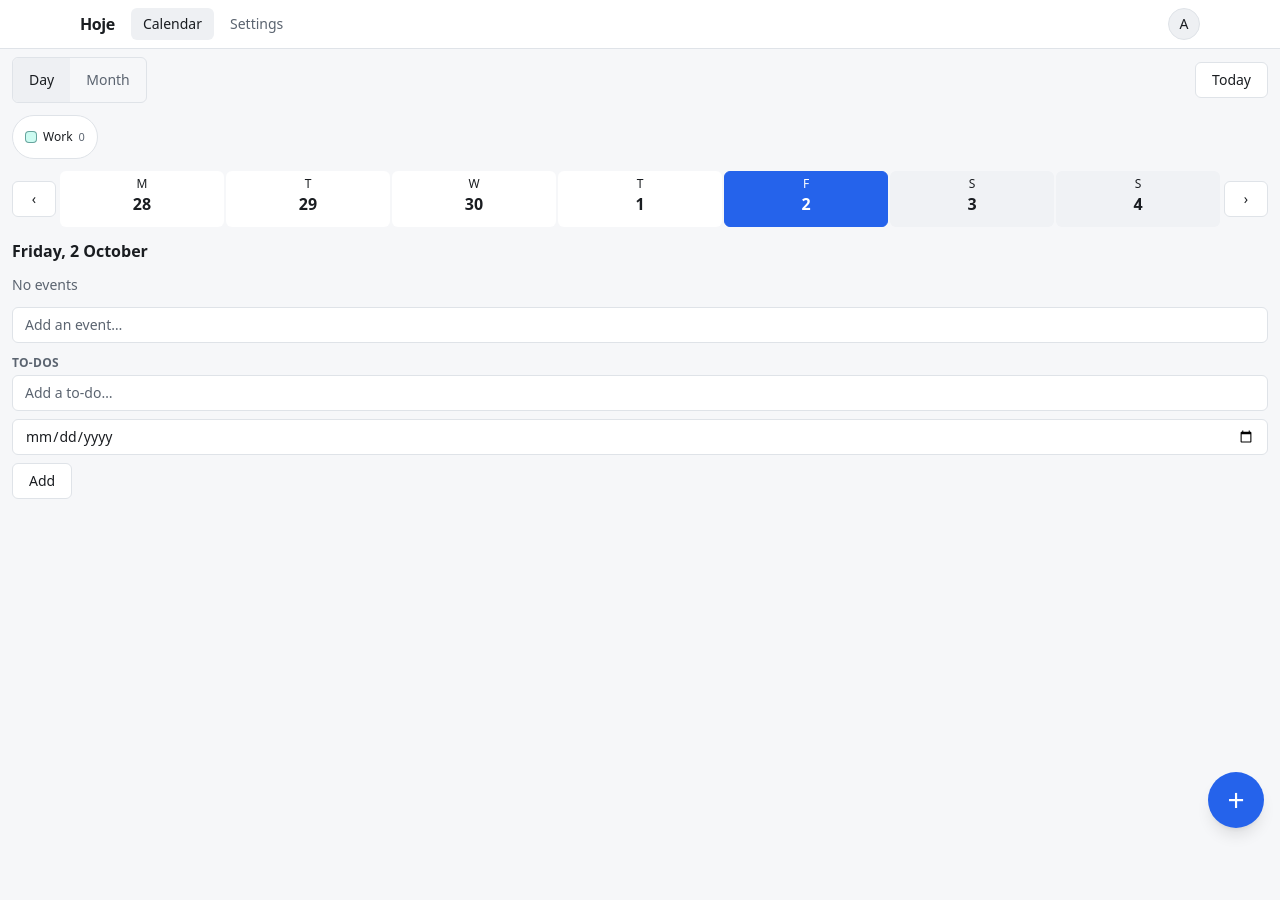
Test case: mobile month view: week numbers › shows the ISO week-number column when enabled (default)
This screenshot has width=1280, height=900.
Note: Switch to month view
Click the button "Month".
click(108, 80)  # box [70,58,146,102]
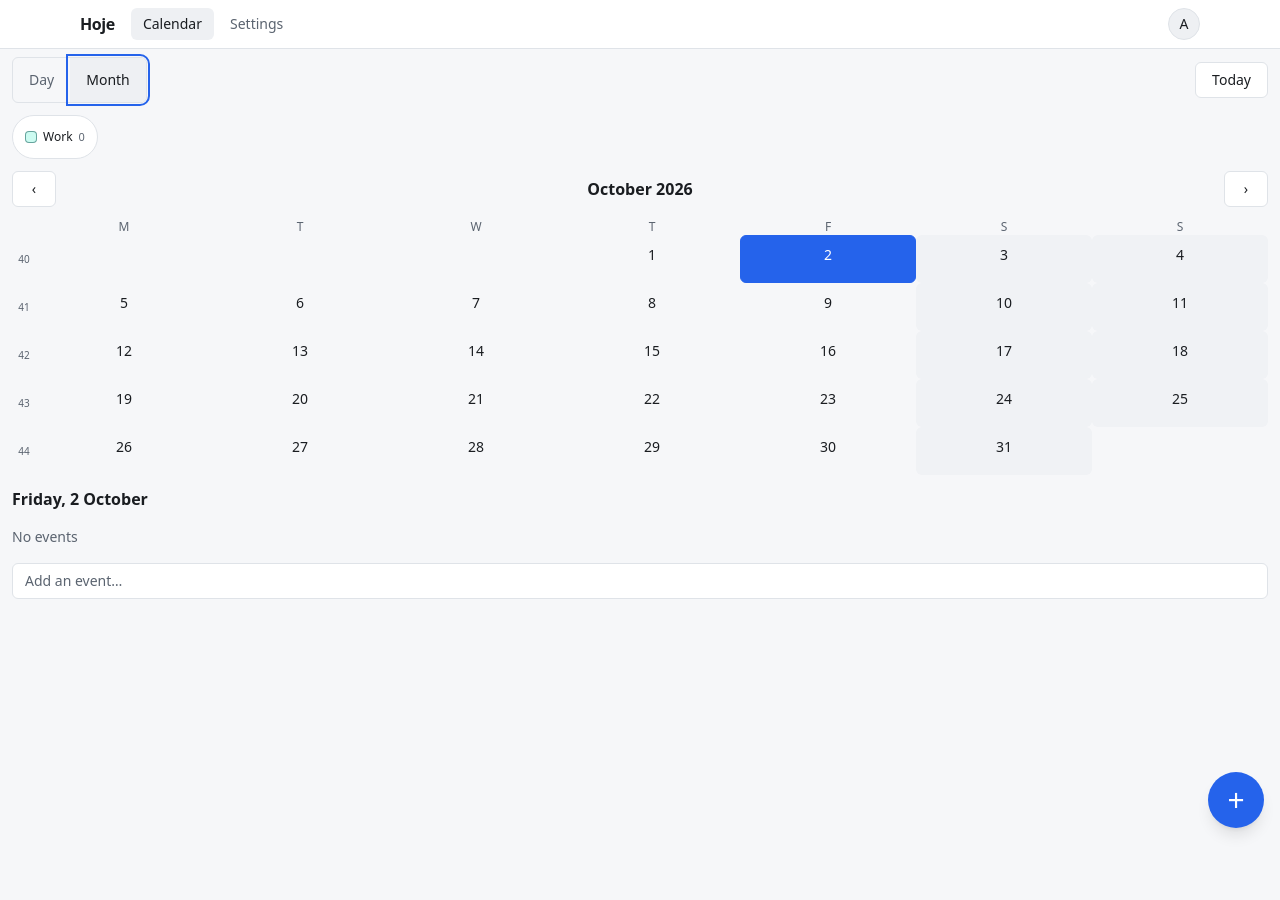
Expected: the number of column headings is 8
